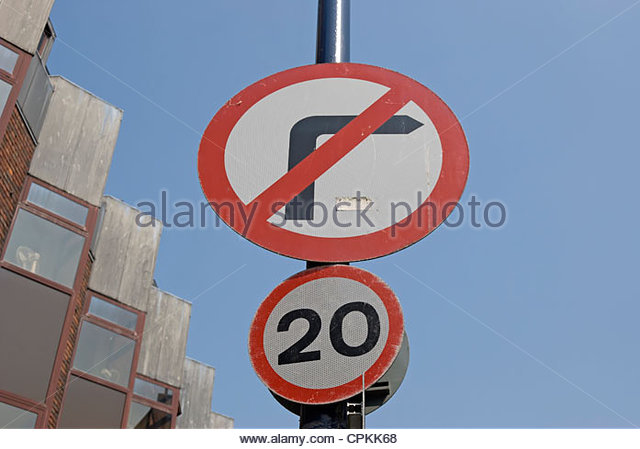No_right_turn: (198, 63, 470, 263)
